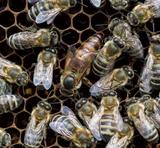Queen-Bee: (60, 33, 103, 96)
worker-bee: (89, 67, 126, 142), (49, 106, 96, 147), (125, 97, 158, 142), (108, 18, 143, 58), (89, 65, 133, 96), (24, 101, 51, 147), (139, 34, 159, 93), (92, 37, 123, 75), (27, 0, 76, 23), (7, 28, 58, 49), (75, 98, 99, 140), (33, 48, 56, 89), (127, 0, 159, 25), (0, 57, 28, 85)
